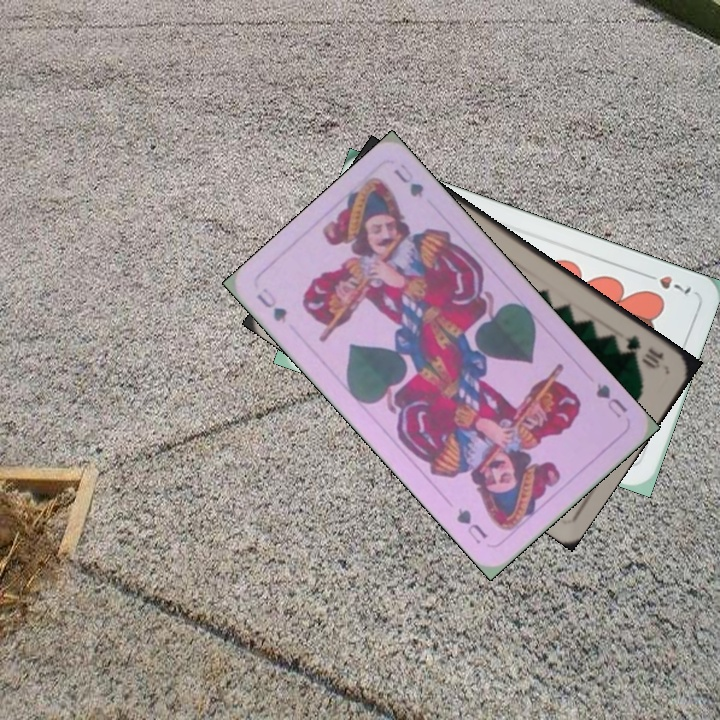G10: (621, 330, 667, 372)
GU: (591, 379, 630, 421), (252, 284, 290, 326)
H7: (638, 268, 694, 299)
